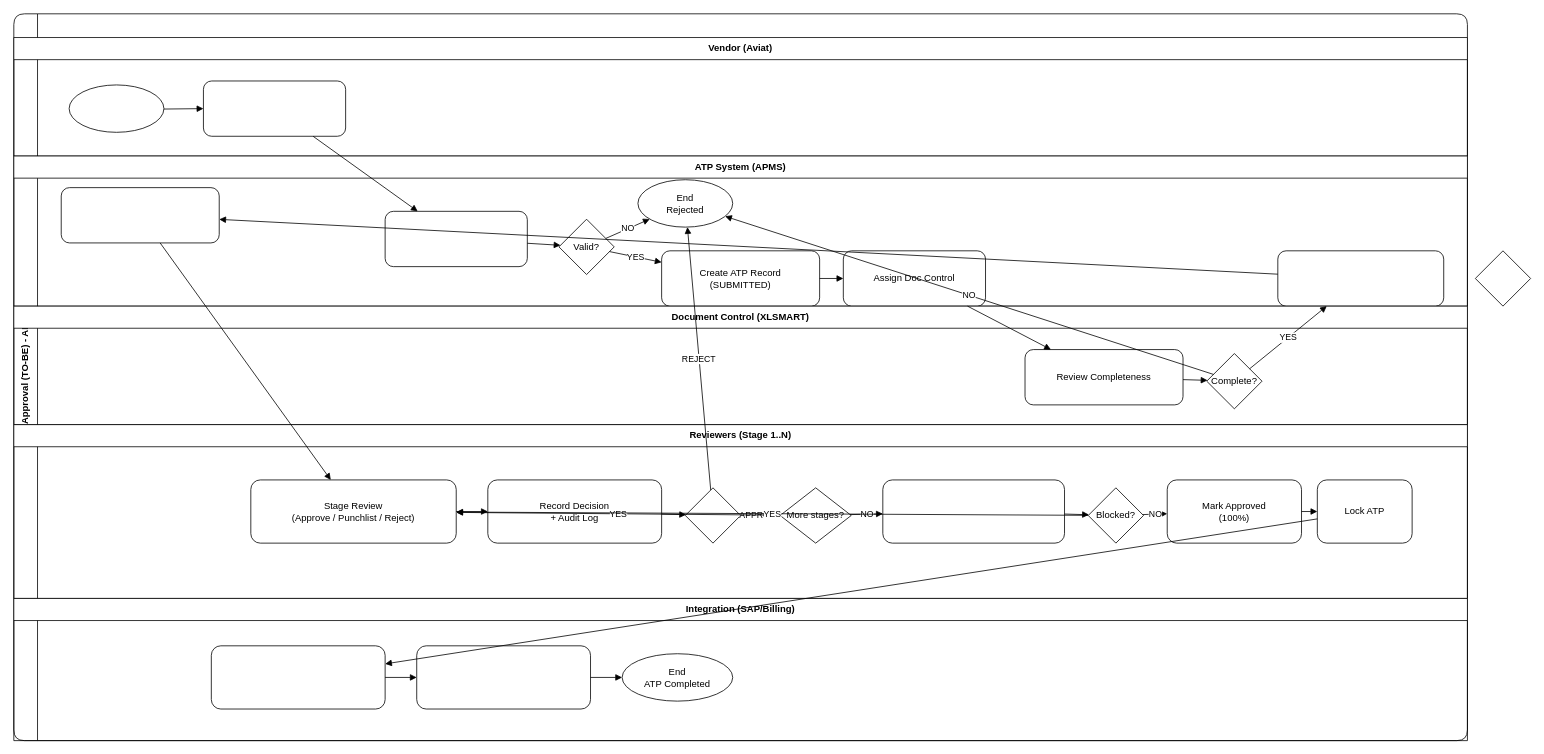
Image size: 1544x754. Some labels were removed from this diagram. Each missing label, with the centre of its shape:
"Create Workflow + Stages" belongs at point 139,215.
"Decision?" belongs at point 713,515.
"Evaluate Punchlist (CRITICAL blocks)" belongs at point 973,511.
"Freeze Config (config_version_id)" belongs at point 1360,278.
"Generate Certificate + Hash" belongs at point 298,677.
"HW / SW Path" belongs at point 1503,278.
"Start Site Ready for ATP" belongs at point 116,108.
"Submit ATP Document" belongs at point 274,108.
"Trigger Integration (SAP/Billing)" belongs at point 503,677.
"Validate Submission" belongs at point 455,239.
